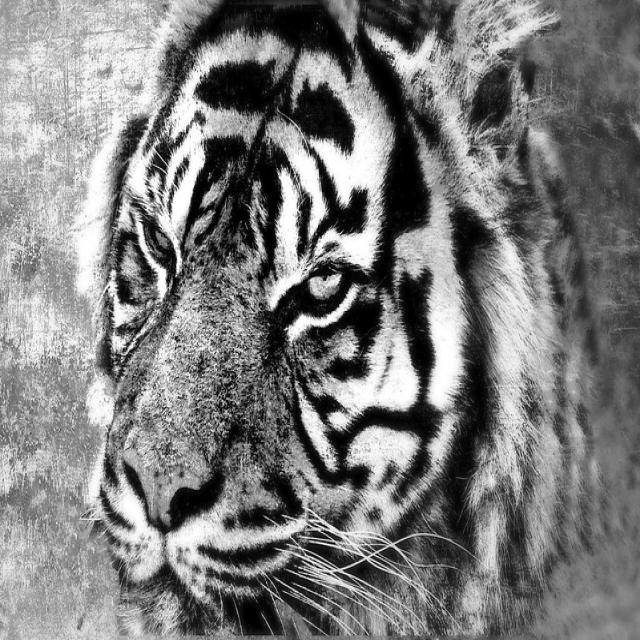Tiger: (55, 0, 598, 639)
